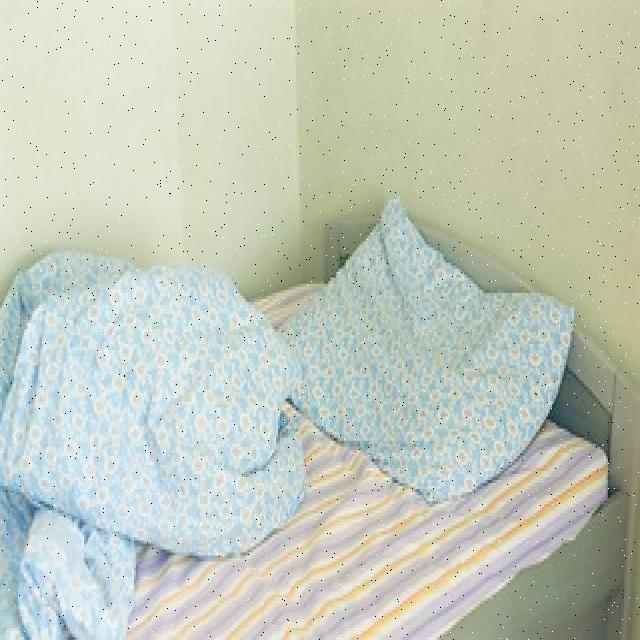bed: (0, 201, 628, 608)
